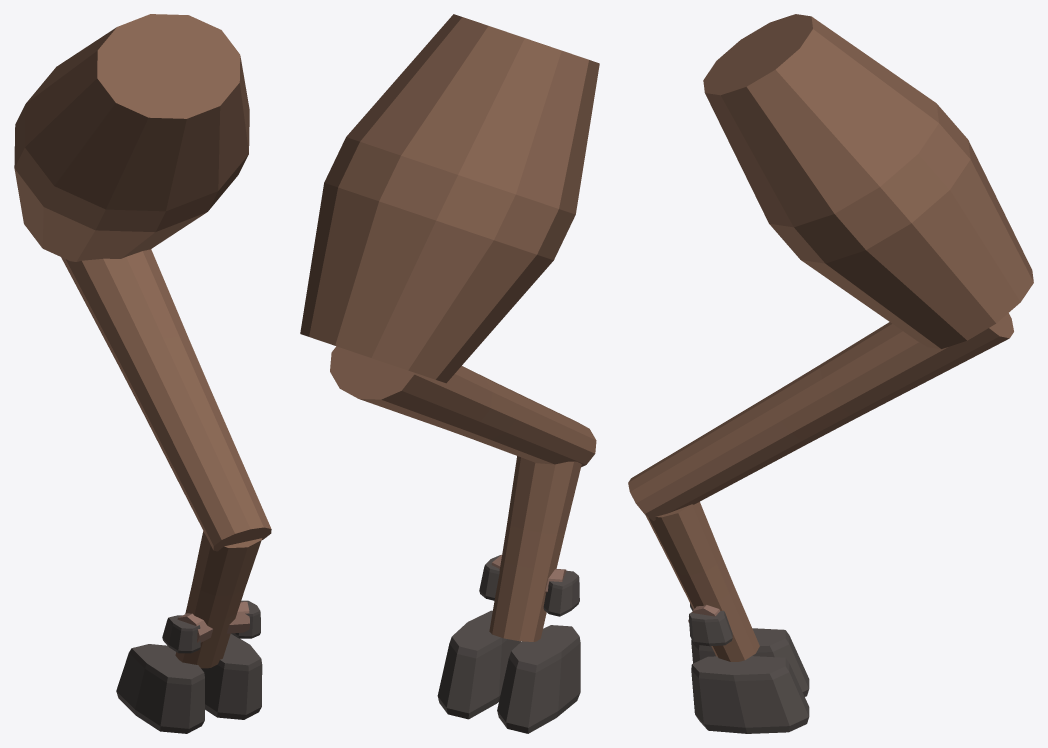
File: HindR.glb
3 views of the same model, side by side, from view 1: azimuth 30°, elevation 25°; view 2: azimuth 150°, elevation 25°; view 3: azimuth 270°, elevation 25° (orthographic). The views are drawn at different scales.
Parts seen in each view (by area): view 1: HindRUpper, HindRLower, HindRClove0, HindRPastern, HindRClove1, HindRDewclaw2, HindRDewclaw3, HindRDewclawMount3, HindRDewclawMount2; view 2: HindRUpper, HindRLower, HindRPastern, HindRClove0, HindRClove1, HindRDewclaw2, HindRDewclaw3; view 3: HindRUpper, HindRLower, HindRClove1, HindRPastern, HindRClove0, HindRDewclaw3.
Part boxes in pixels (x1=…): HindRUpper: x1=14, y1=14, x2=249, y2=261; HindRLower: x1=61, y1=249, x2=271, y2=551; HindRClove0: x1=116, y1=644, x2=204, y2=733; HindRPastern: x1=175, y1=531, x2=262, y2=668; HindRClove1: x1=201, y1=634, x2=262, y2=719; HindRDewclaw2: x1=162, y1=615, x2=200, y2=653; HindRDewclaw3: x1=231, y1=600, x2=260, y2=638; HindRDewclawMount3: x1=226, y1=601, x2=249, y2=633; HindRDewclawMount2: x1=177, y1=613, x2=213, y2=642; HindRUpper: x1=300, y1=14, x2=599, y2=383; HindRLower: x1=330, y1=346, x2=596, y2=467; HindRPastern: x1=489, y1=456, x2=581, y2=641; HindRClove0: x1=497, y1=625, x2=580, y2=733; HindRClove1: x1=437, y1=610, x2=520, y2=719; HindRDewclaw2: x1=543, y1=570, x2=579, y2=616; HindRDewclaw3: x1=479, y1=555, x2=500, y2=600; HindRUpper: x1=703, y1=14, x2=1033, y2=349; HindRLower: x1=628, y1=313, x2=1013, y2=521; HindRClove1: x1=691, y1=656, x2=809, y2=733; HindRPastern: x1=645, y1=501, x2=759, y2=661; HindRClove0: x1=691, y1=628, x2=809, y2=696; HindRDewclaw3: x1=689, y1=610, x2=732, y2=646.
Size of the model in its own units: 0.3859 by 1.17 by 0.6395.
